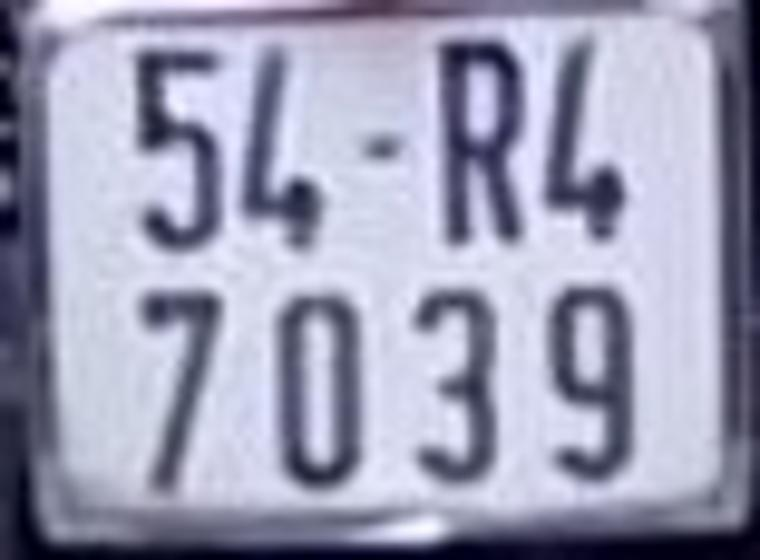-: (363, 132, 402, 157)
0: (271, 298, 364, 486)
3: (416, 288, 493, 484)
4: (242, 50, 320, 250), (551, 43, 622, 239)
5: (132, 46, 221, 243)
7: (142, 291, 222, 492)
9: (547, 284, 640, 483)
R: (433, 37, 521, 244)
